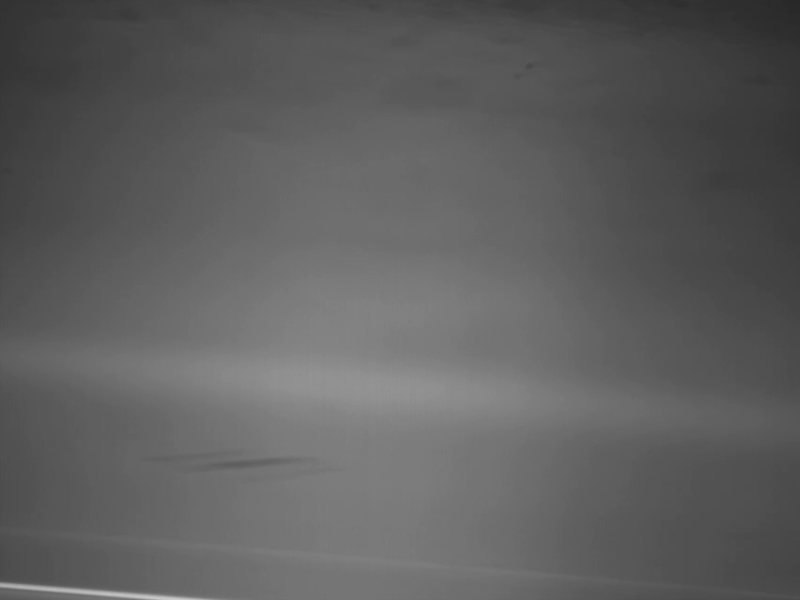fiber: (128, 446, 351, 482)
